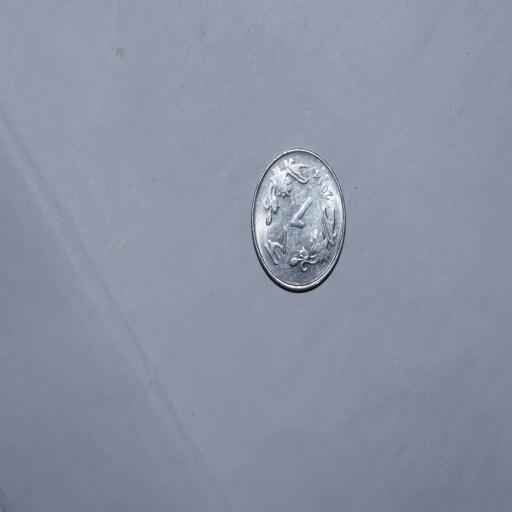rupee1: (250, 150, 343, 291)
